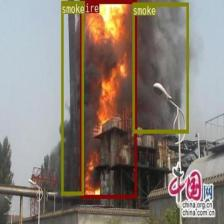fire: (80, 0, 136, 197)
smoke: (132, 1, 188, 132), (61, 0, 84, 194)
